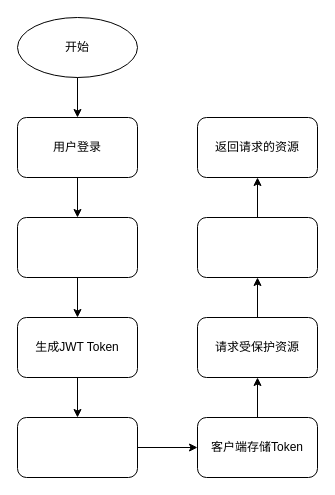
Some shapes in this 335 by 495 pixel diagram are drawn without their labels. The box of each missing label's shape, as (x1, y1, x2, y2) in pixels:
服务器验证Token: (196, 216, 318, 278)
服务器验证用户信息: (16, 216, 138, 278)
返回Token给客户端: (16, 416, 138, 478)
